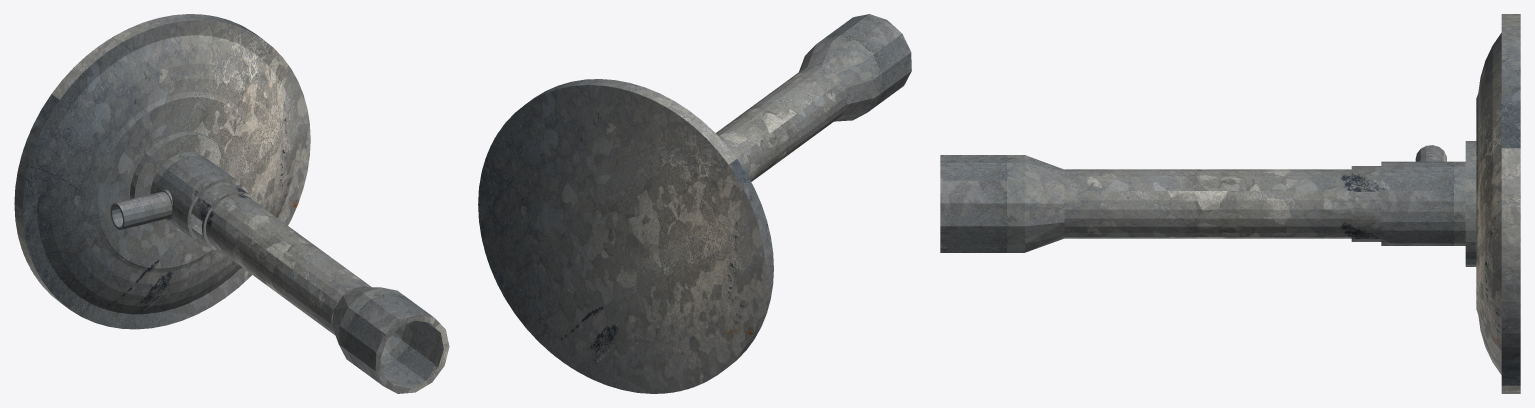
The picture shows the model from 3 angles, left to right: view 1: azimuth 30°, elevation 25°; view 2: azimuth 150°, elevation 25°; view 3: azimuth 270°, elevation 25°; orthographic projection. The views are drawn at different scales.
Bounding box in the file's own units: 71.64 × 71.64 × 109.
